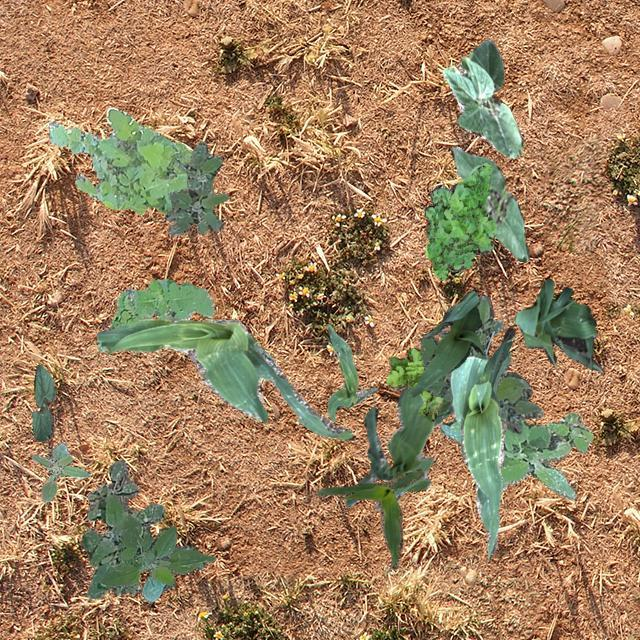crop: (95, 316, 354, 440), (449, 326, 514, 558), (343, 386, 452, 510), (314, 468, 422, 568), (99, 514, 214, 602), (442, 39, 520, 158), (449, 144, 528, 260), (513, 278, 601, 372), (409, 288, 484, 396), (326, 324, 376, 420), (30, 364, 54, 441)
weed: (48, 106, 212, 214), (419, 294, 542, 434), (438, 412, 592, 498), (80, 458, 164, 598), (96, 278, 214, 350), (422, 162, 494, 280), (164, 140, 227, 236), (386, 346, 442, 421), (30, 442, 90, 501)
